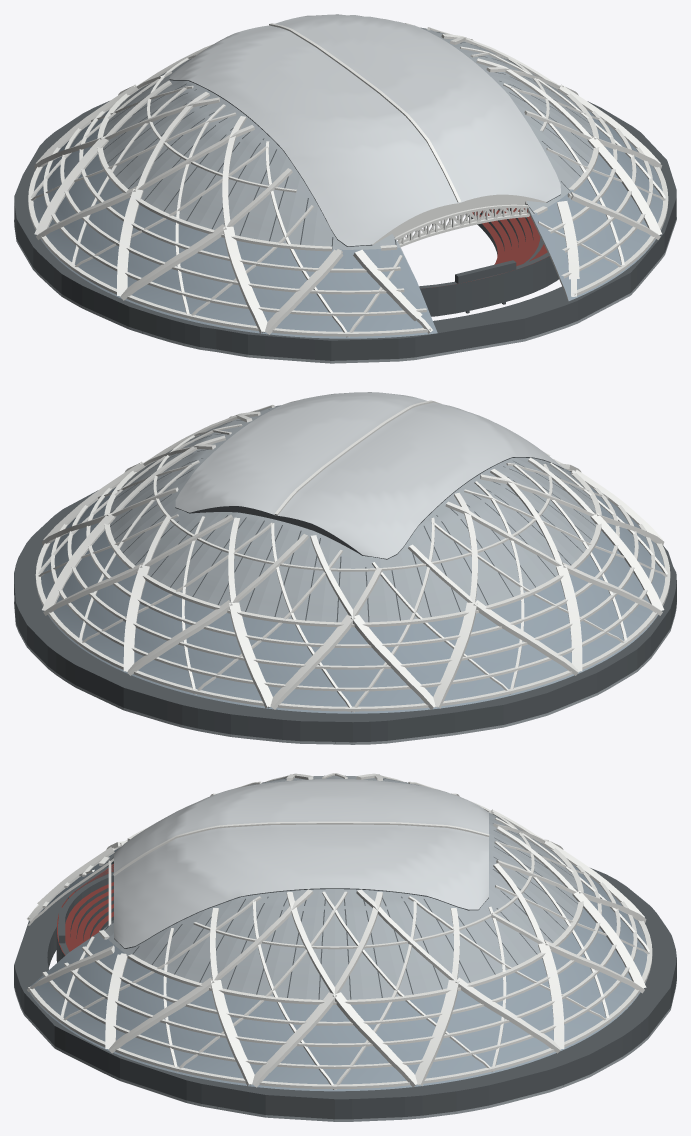
Rendered from singapore-national-stadium.detail.glb.
3 renders of one model, top to bottom at view 1: azimuth 30°, elevation 25°; view 2: azimuth 150°, elevation 25°; view 3: azimuth 270°, elevation 25°, orthographic.
Parts seen in each view (by area): view 1: National Stadium, Singapore; view 2: National Stadium, Singapore; view 3: National Stadium, Singapore.
Boxes of the visible parts, box(x1,y1,x2,y2) form: National Stadium, Singapore: box(14, 14, 676, 363); National Stadium, Singapore: box(14, 392, 676, 744); National Stadium, Singapore: box(14, 773, 676, 1121).
Bounding box in the file's own units: 319 × 83.68 × 318.
